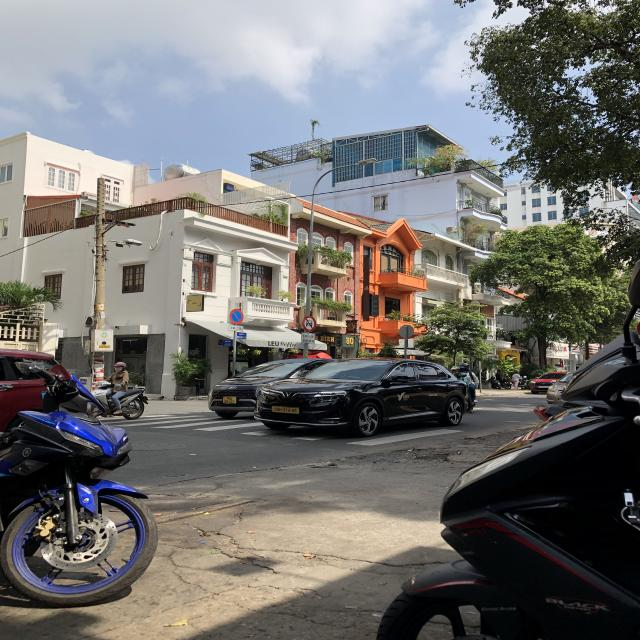Bien bao cam do xe: (229, 308, 246, 324)
Bien bao cam xe oto: (302, 314, 318, 332)
